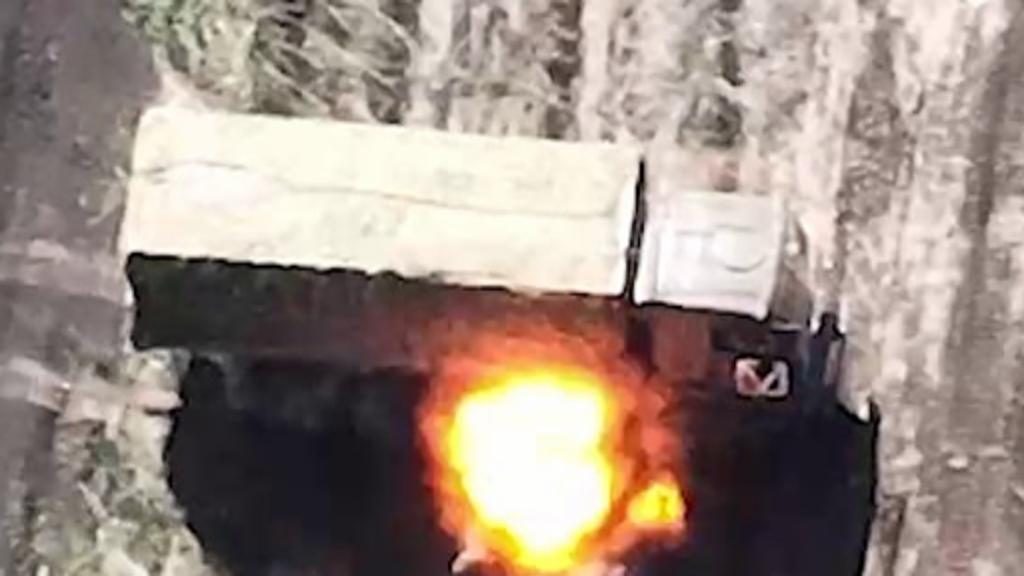TRUCK: (114, 96, 844, 447)
